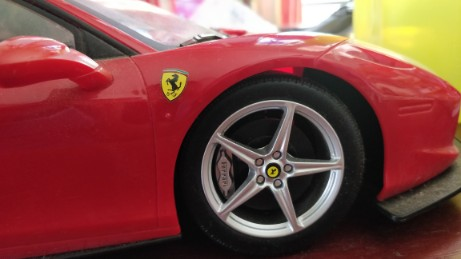unaligned_wheel: (191, 75, 365, 249)
